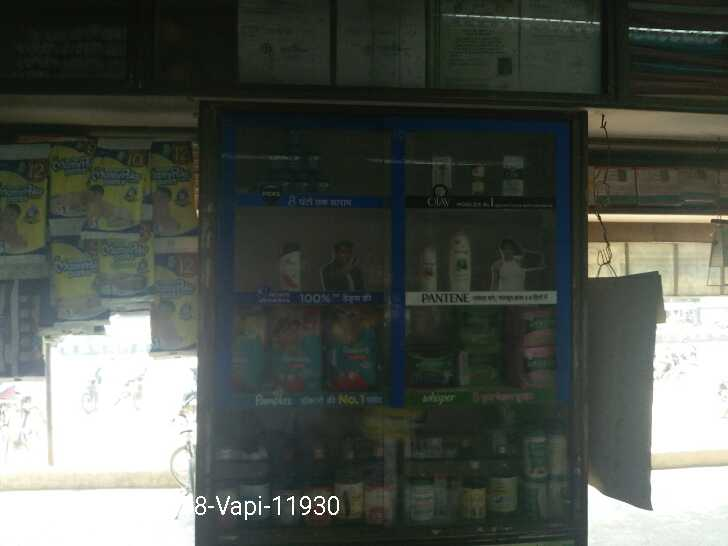beauty: (450, 226, 475, 292), (501, 151, 534, 192), (276, 240, 303, 287), (427, 151, 452, 200), (415, 244, 440, 290), (468, 158, 485, 193)
pharmacy: (323, 305, 380, 398), (263, 307, 315, 395), (461, 347, 507, 393), (508, 300, 551, 344), (406, 350, 457, 387), (457, 304, 503, 344), (513, 346, 555, 386), (304, 143, 324, 175), (284, 146, 306, 173), (264, 146, 285, 170), (283, 125, 306, 146)
